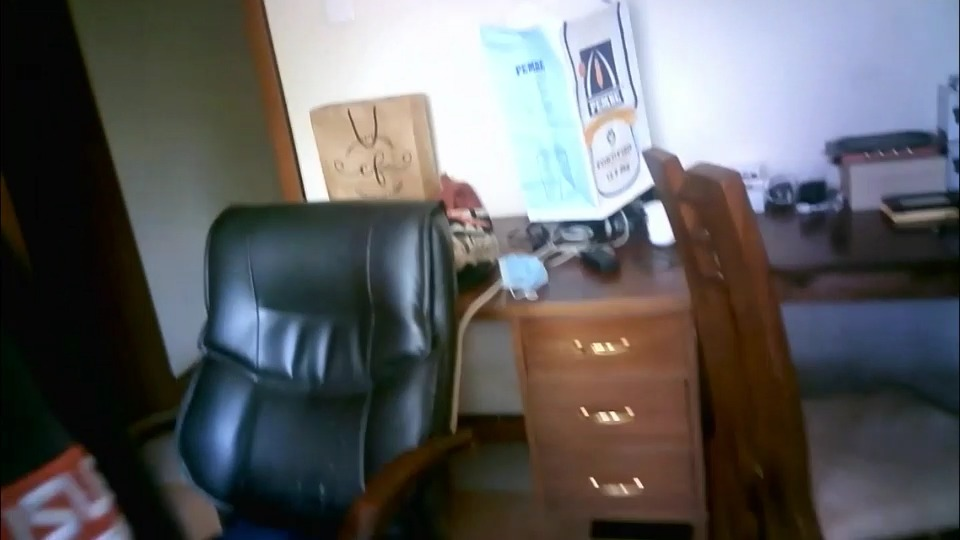wheat_flour_blue_label: (477, 4, 656, 219)
